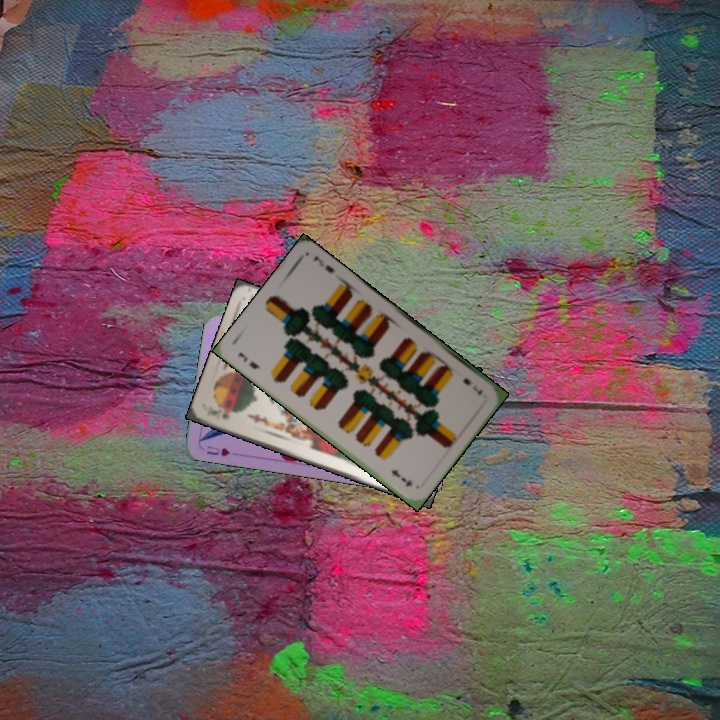E7: (234, 348, 262, 372), (459, 374, 485, 397)
HU: (202, 442, 232, 459)
SK: (207, 406, 233, 422)
